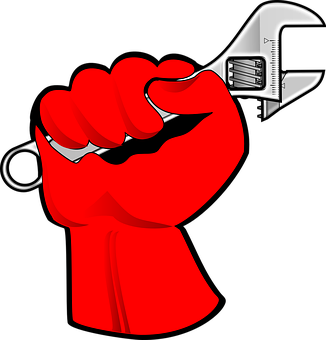fist: (37, 51, 238, 232)
